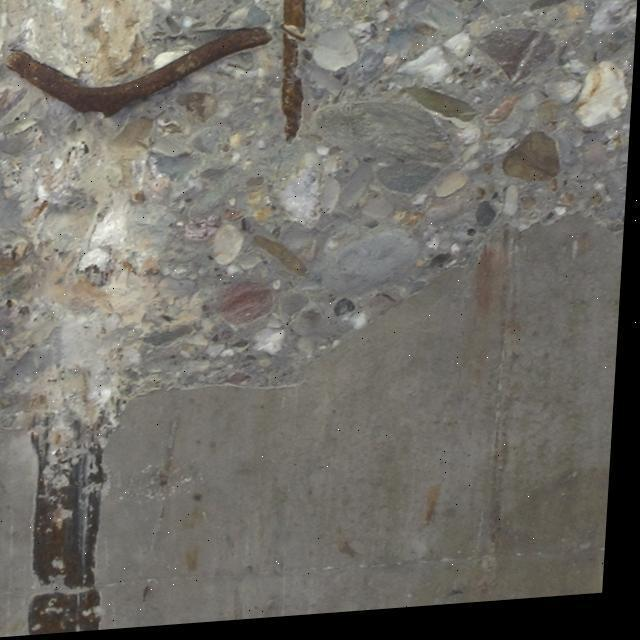D0w0: (2, 2, 593, 393)
